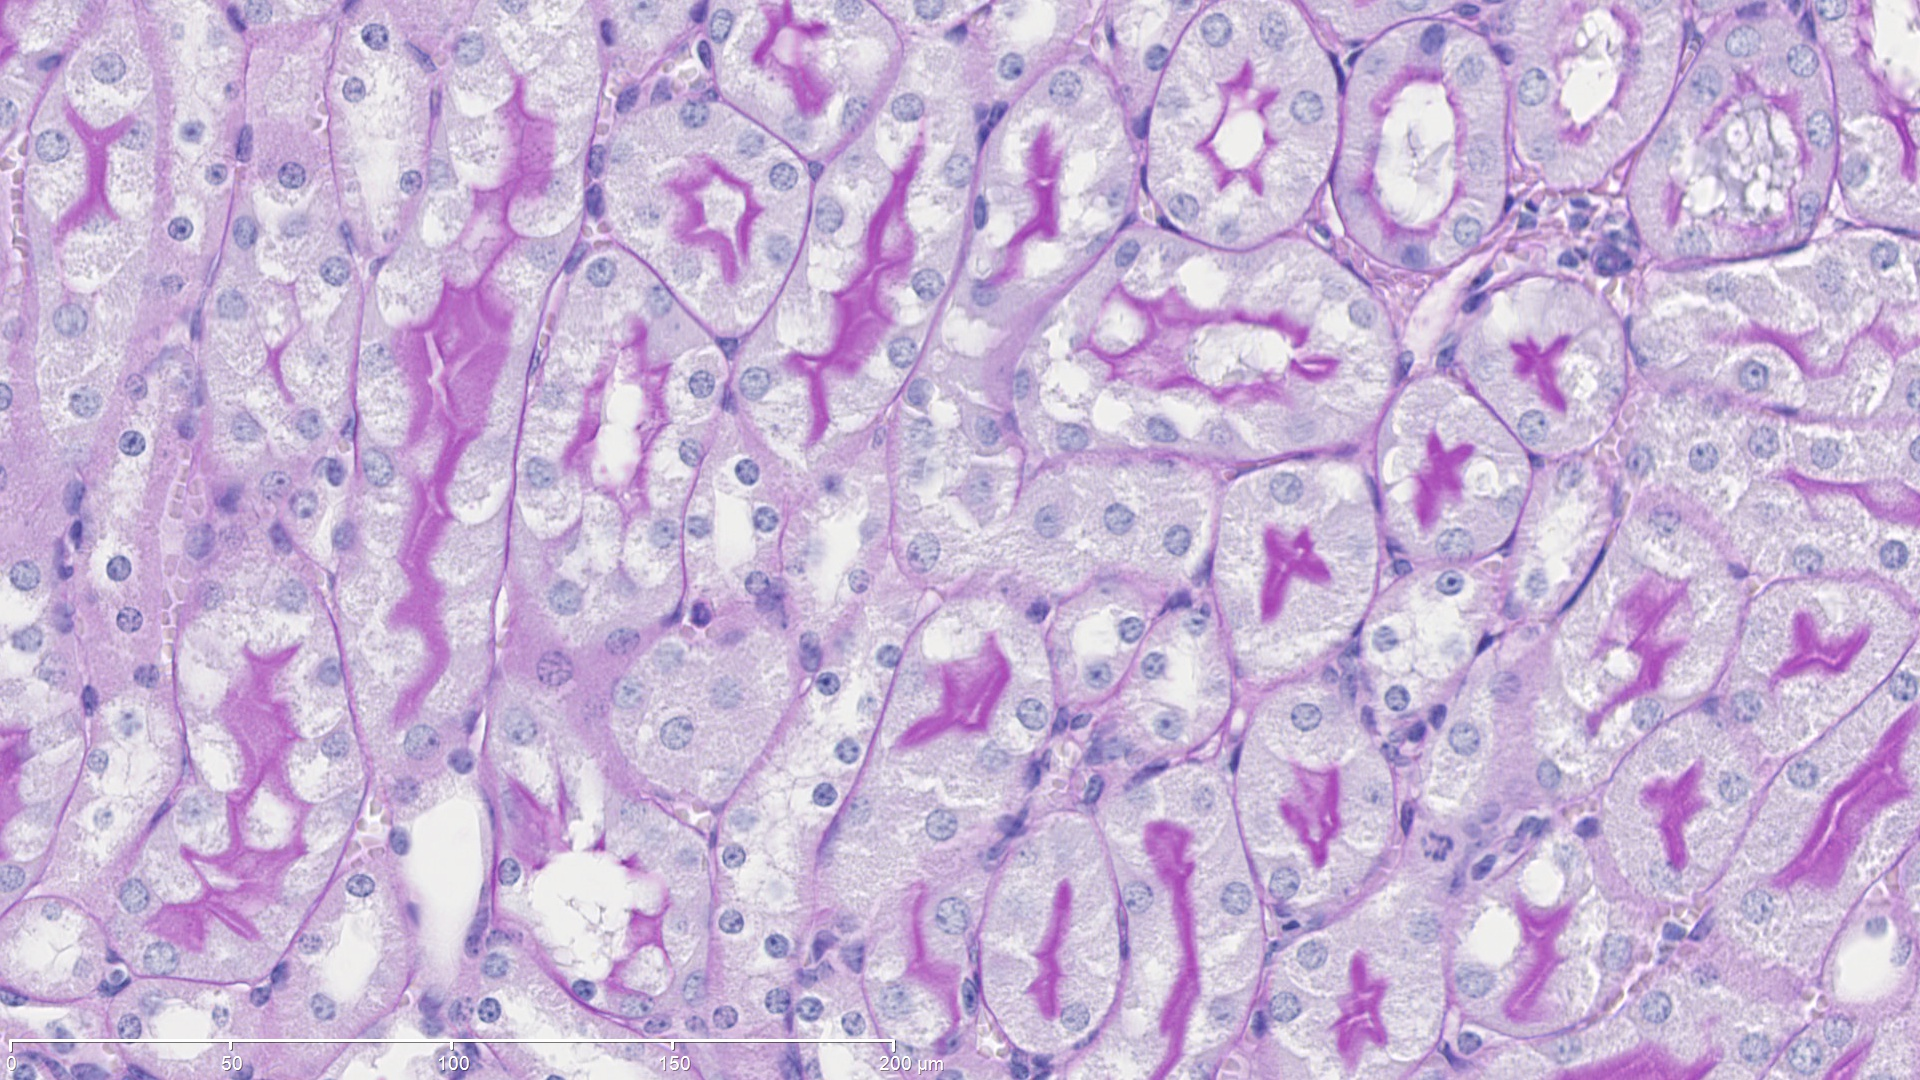Glomeruli: (1491, 187, 1647, 287)
